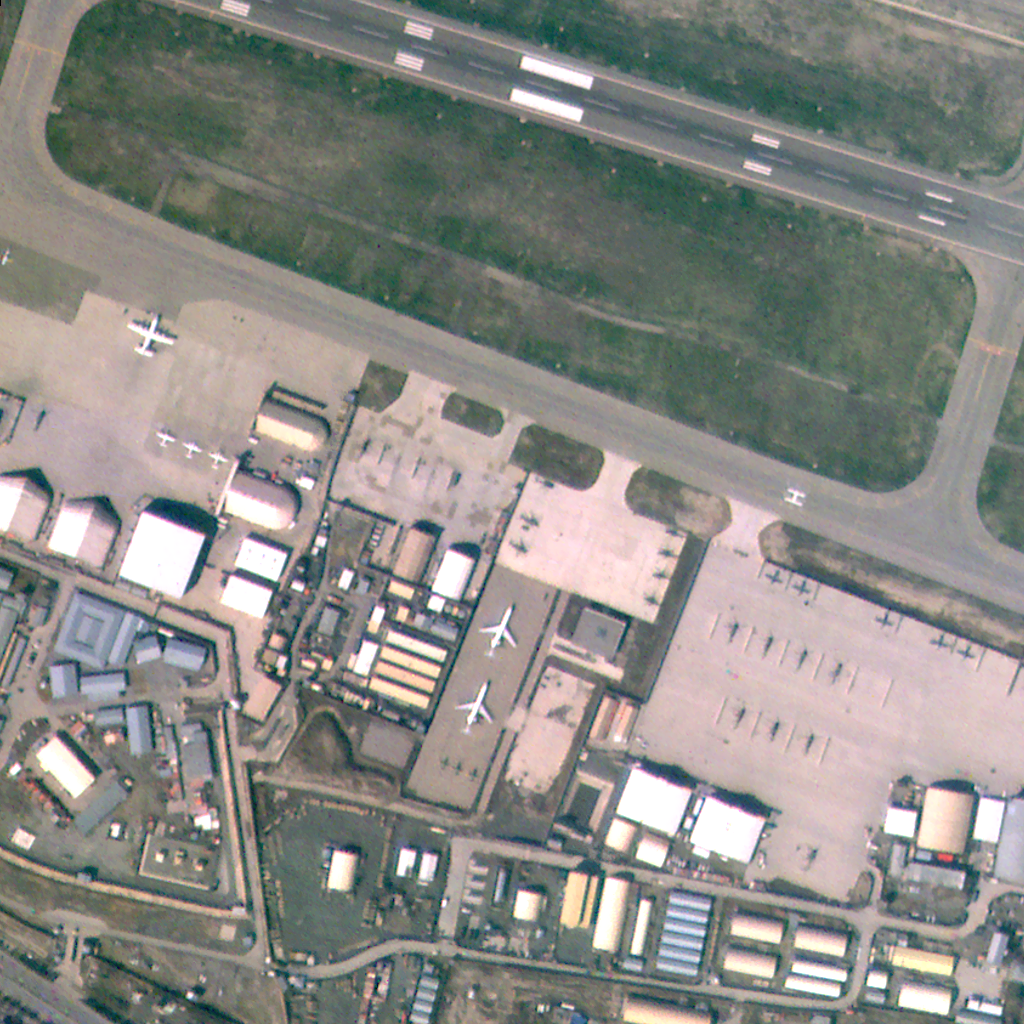plane: (128, 311, 178, 358), (481, 600, 517, 659), (459, 682, 498, 733), (207, 446, 231, 472), (792, 576, 815, 596), (181, 439, 204, 458), (763, 567, 787, 585), (959, 643, 979, 663), (154, 428, 174, 448), (931, 632, 950, 648), (878, 609, 892, 628)
